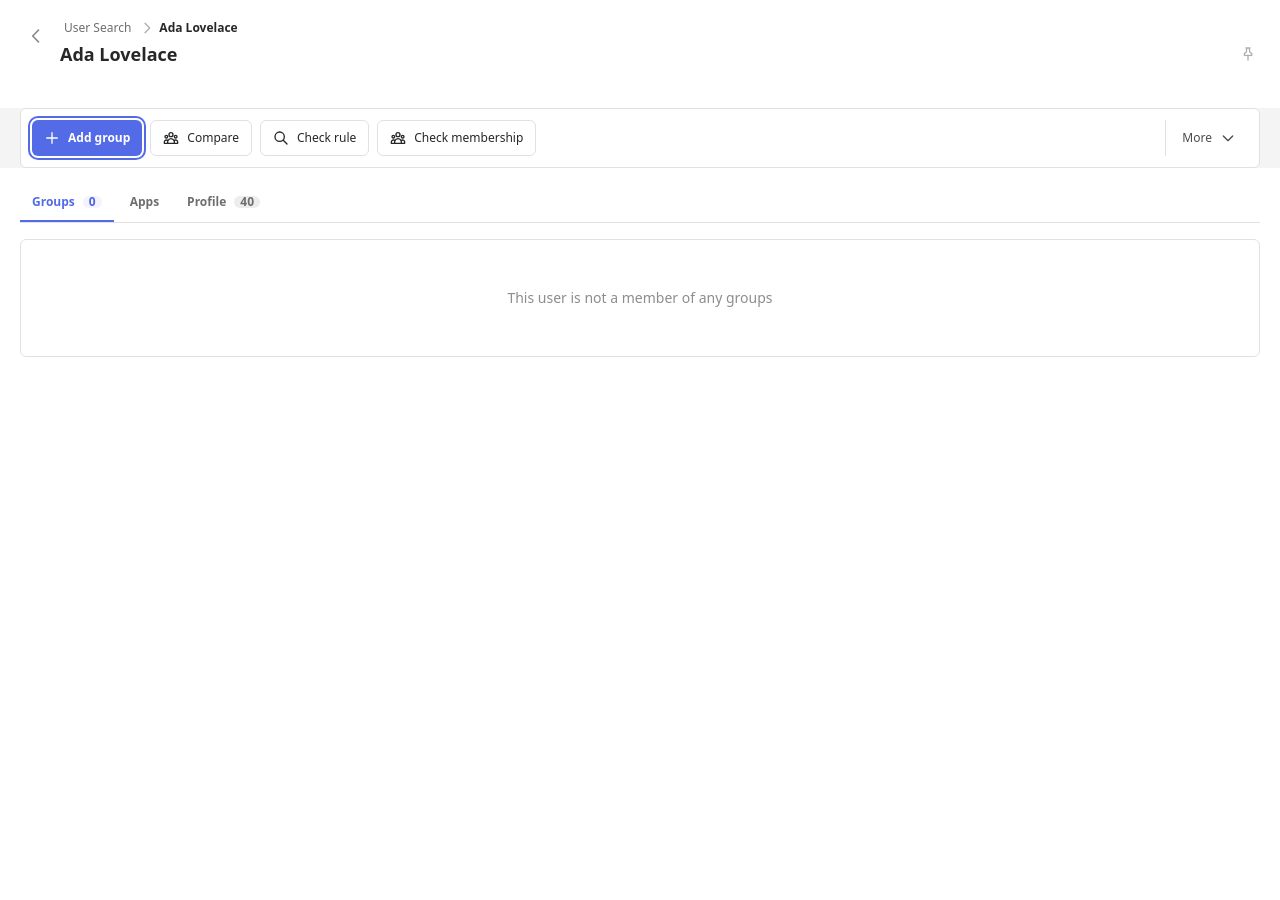
it: detail rung: profile attributes are reachable and filterable › narrows the attribute list to a subset when filtered
The image size is (1280, 900).
Check: the heading "Ada Lovelace" is shown, box [60,42,178,66]
Click the tab "Profile 40" at coordinates (224, 203), box [175,184,272,222]
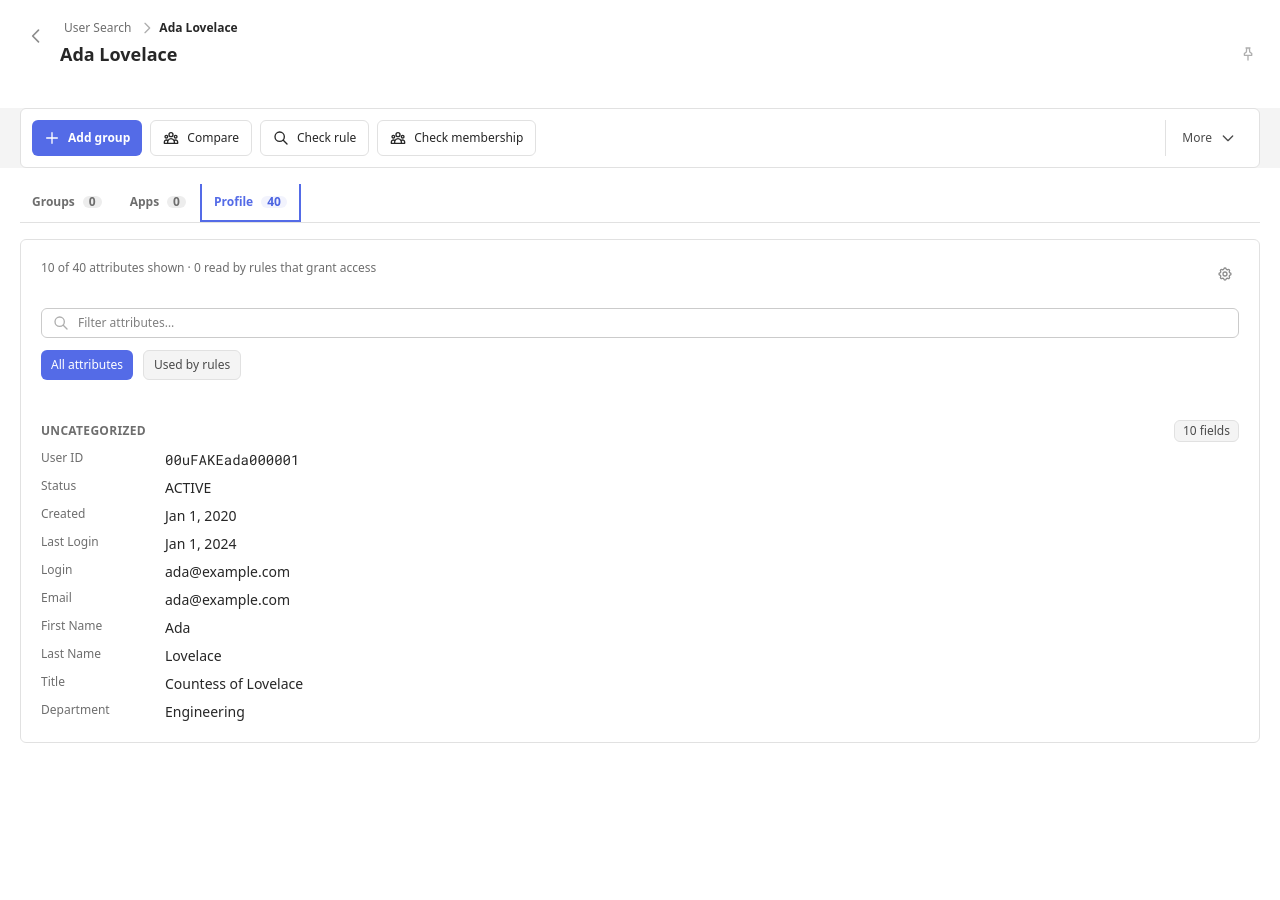
Type "countess" into the field labelled "Filter attributes" at coordinates (640, 323), box [41,308,1239,338]
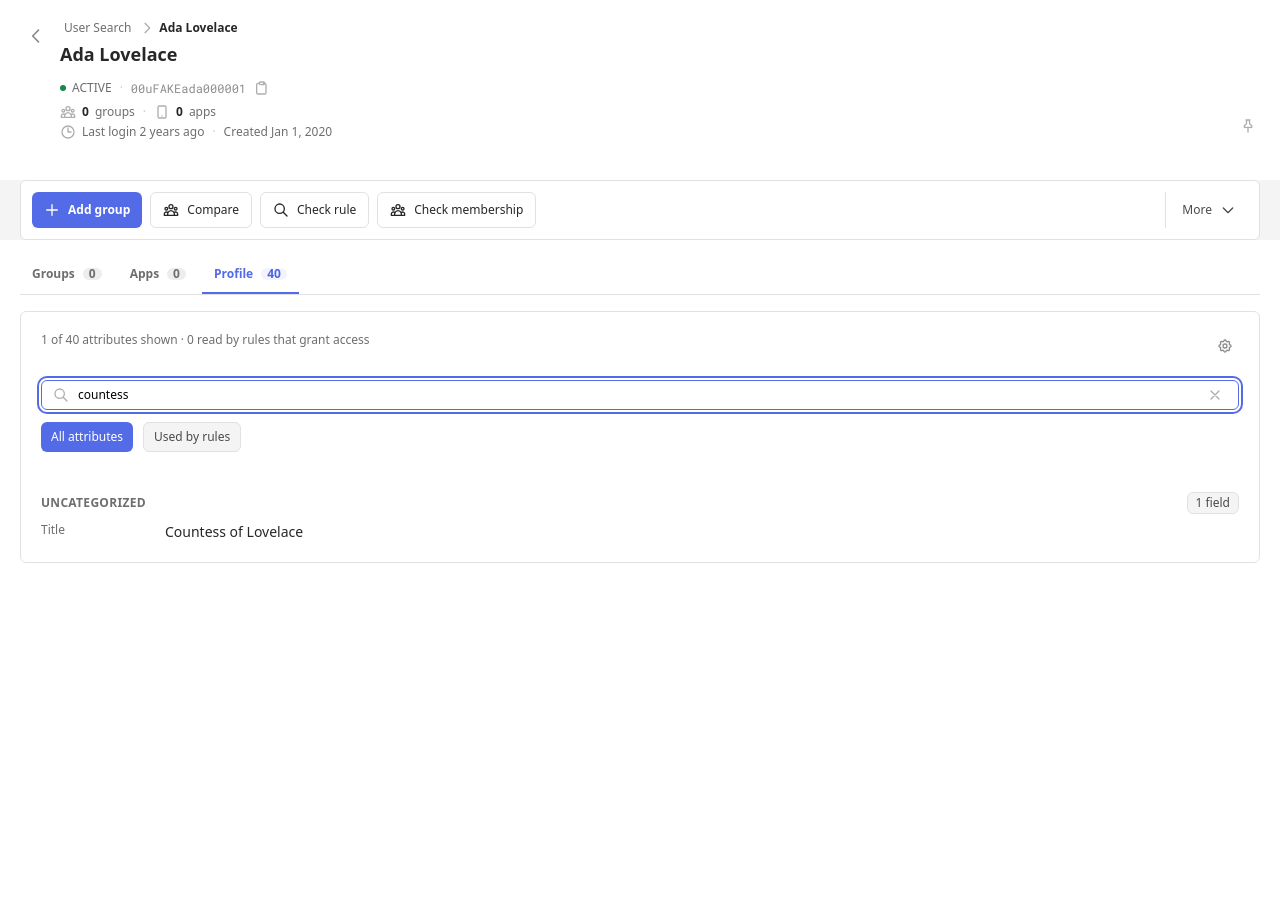
Check: the text "Title" is shown, box [41,521,65,538]
Check: the text "Countess of Lovelace" is shown, box [165,522,303,542]
Replace the text in the field named "Filter attributes" with "no-such-attribute" at coordinates (640, 395), box [41,380,1239,410]
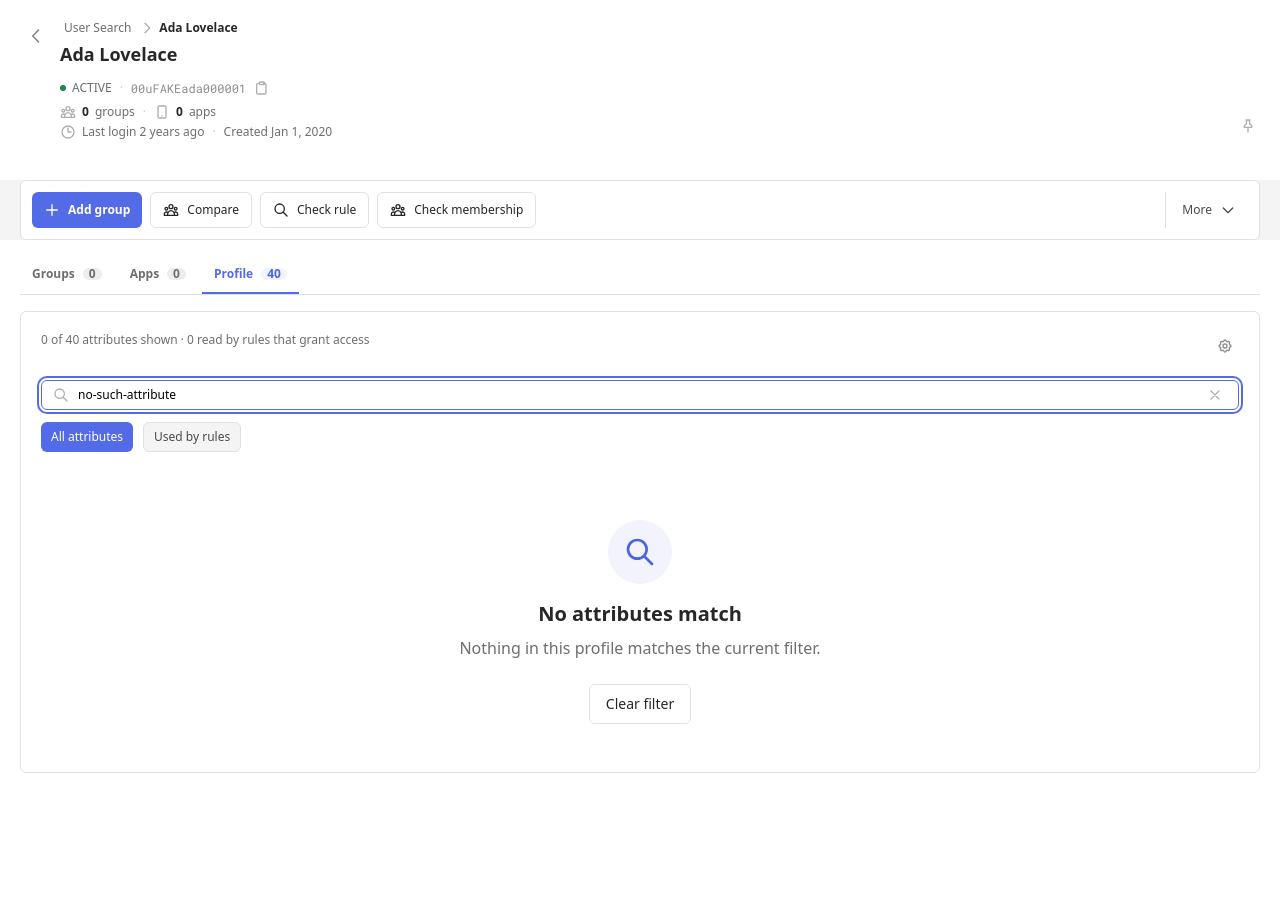
Check: the text "Title" is not shown
Check: the heading "No attributes match" is shown, box [538,600,742,627]
